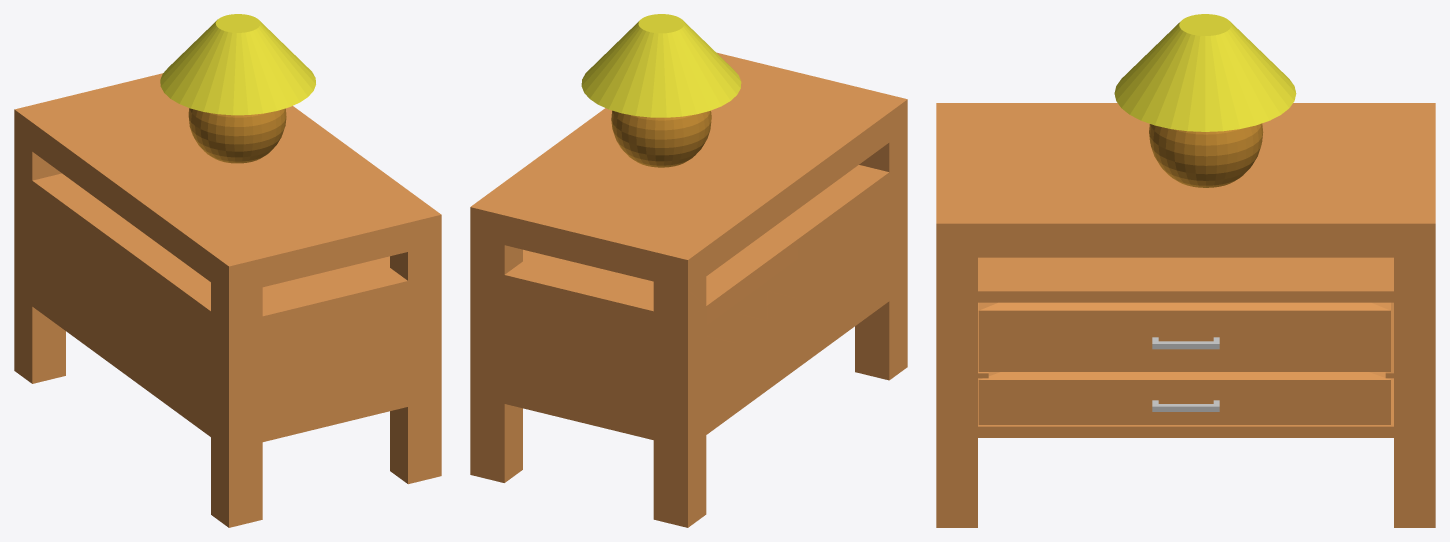
File: nightstand_lamp.fbx
3 renders of one model, left to right at view 1: azimuth 30°, elevation 25°; view 2: azimuth 150°, elevation 25°; view 3: azimuth 270°, elevation 25°, orthographic. The views are drawn at different scales.
Parts seen in each view (by area): view 1: Nightstand, Sphere; view 2: Nightstand, Sphere; view 3: Nightstand, drawer, drawer2, Sphere.
Boxes of the visible parts, left/top/right/bottom form: Nightstand: left=14, top=73, right=441, bottom=527; Sphere: left=160, top=14, right=315, bottom=163; Nightstand: left=470, top=52, right=907, bottom=527; Sphere: left=581, top=14, right=741, bottom=167; Nightstand: left=936, top=103, right=1435, bottom=527; drawer: left=978, top=302, right=1390, bottom=371; drawer2: left=978, top=372, right=1390, bottom=424; Sphere: left=1114, top=14, right=1296, bottom=187.
Bounding box in the file's own units: 342 × 569 × 569.
